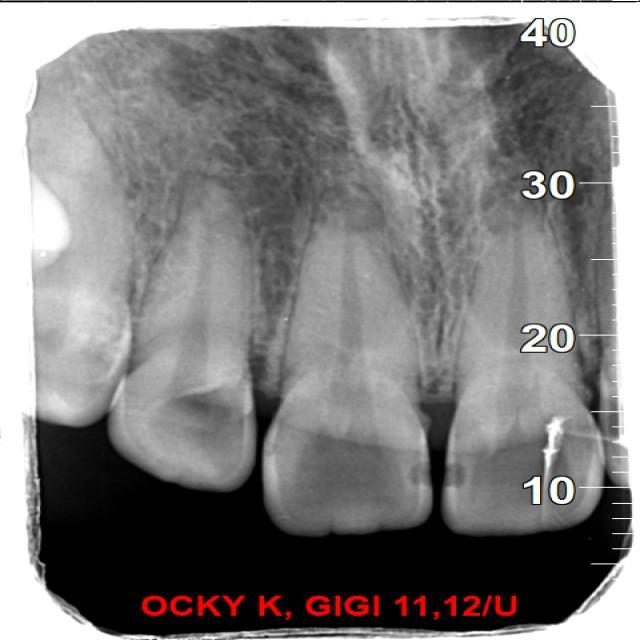individual-tooth-8tto: (270, 180, 435, 537), (437, 195, 604, 540), (120, 180, 259, 493)
